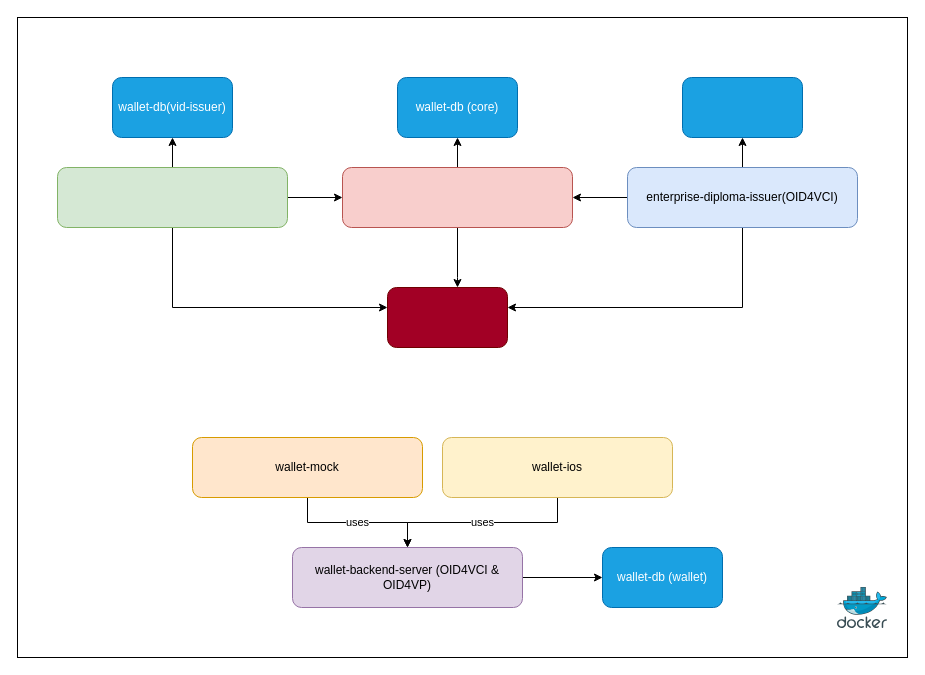
Some shapes in this 925 by 675 pixel diagram are drawn without their labels. Here are the shapes that lost their labels. From the top down, the box of each, then its label:
(682, 76, 802, 138): wallet-db (issuer)
(56, 166, 288, 228): enterprise-vid-issuer(OID4VCI)
(342, 166, 572, 228): enterprise-verifier-core (verifier as a service - OID4VP)
(386, 286, 508, 348): wallet-cache
